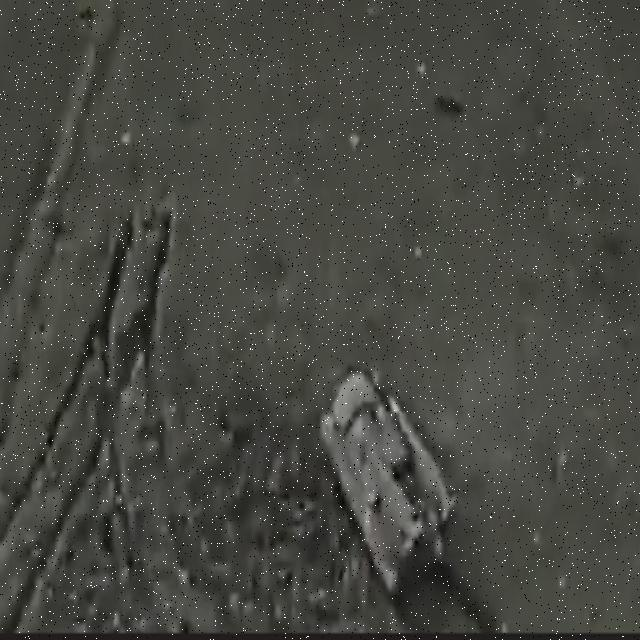MLRS: (304, 346, 455, 586)
